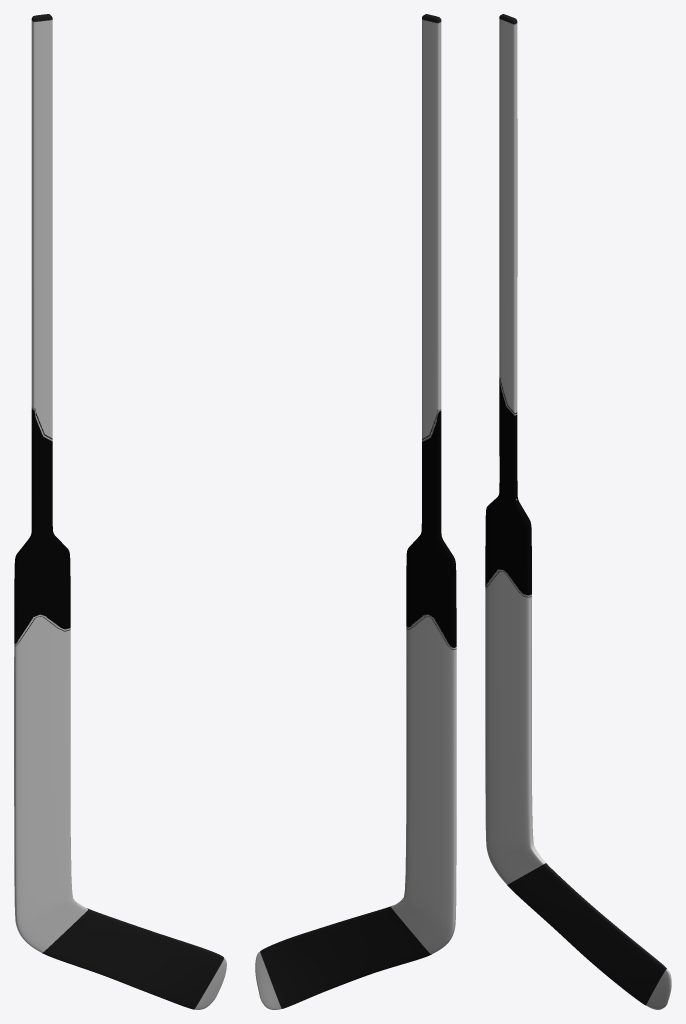
Rendered from goalie-stick-v1.glb.
3 renders of one model, left to right at view 1: azimuth 30°, elevation 25°; view 2: azimuth 150°, elevation 25°; view 3: azimuth 330°, elevation 25°, orthographic. The views are drawn at different scales.
Visible parts, largest first — view 1: goalie_stick; view 2: goalie_stick; view 3: goalie_stick.
Boxes of the visible parts, x1,y1,x2,y2 form: goalie_stick: [14, 14, 226, 1009]; goalie_stick: [255, 14, 456, 1009]; goalie_stick: [485, 14, 671, 1009].
Size of the model in its own units: 0.0253 by 0.1211 by 0.00226.
1 material, 1 textured.
